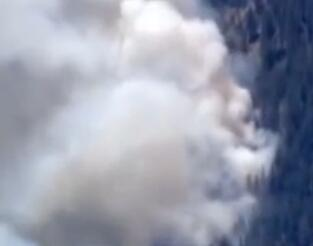yanwu: (1, 0, 271, 243)
